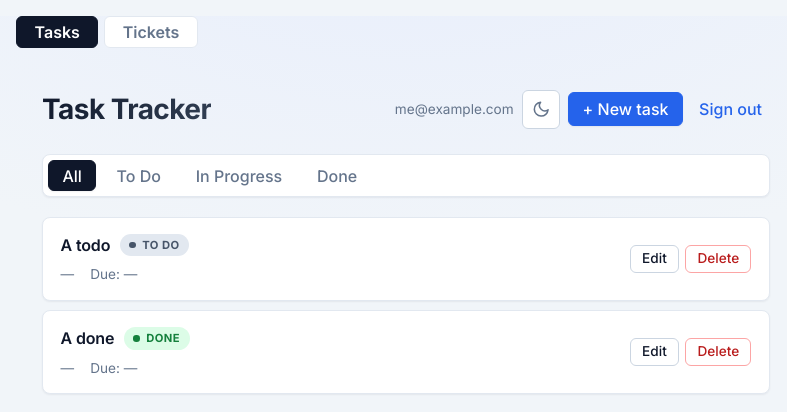
Scenario: App — list loading › ignores a stale response from a superseded filter (AC-16)
Expected: the text "A todo" is shown, [61, 233, 110, 257]
Note: Switch to "Done" (calls[1]) then quickly back to "All" (calls[2]).
Click the tab "Done". click: (337, 176)
box: [302, 160, 372, 191]
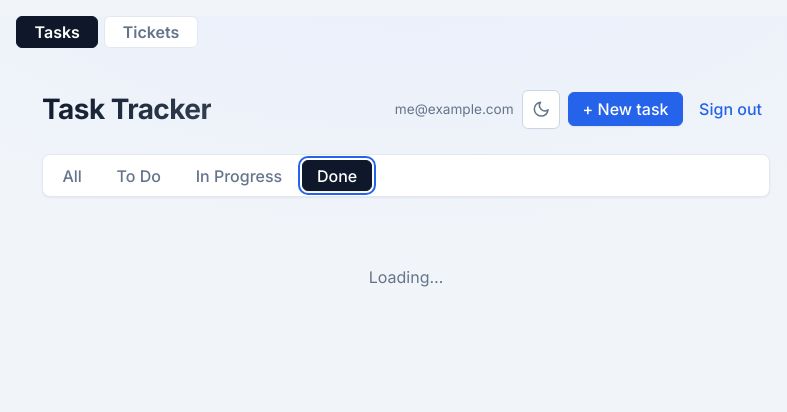
Click the tab "All". click: (72, 176)
box: [48, 160, 96, 191]
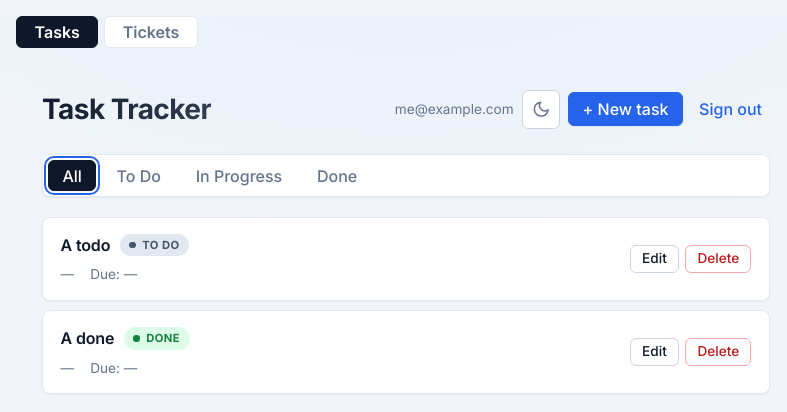
Result: the text "A todo" is shown at [61, 233, 110, 257]
